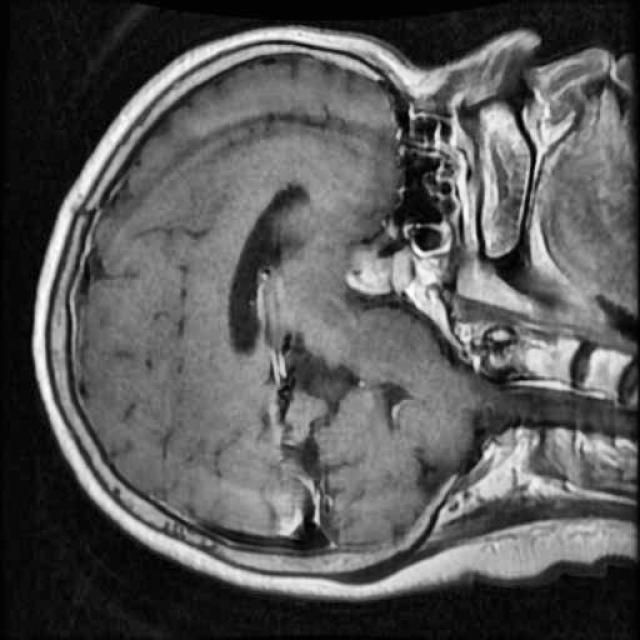Tumor: (330, 239, 424, 305)
